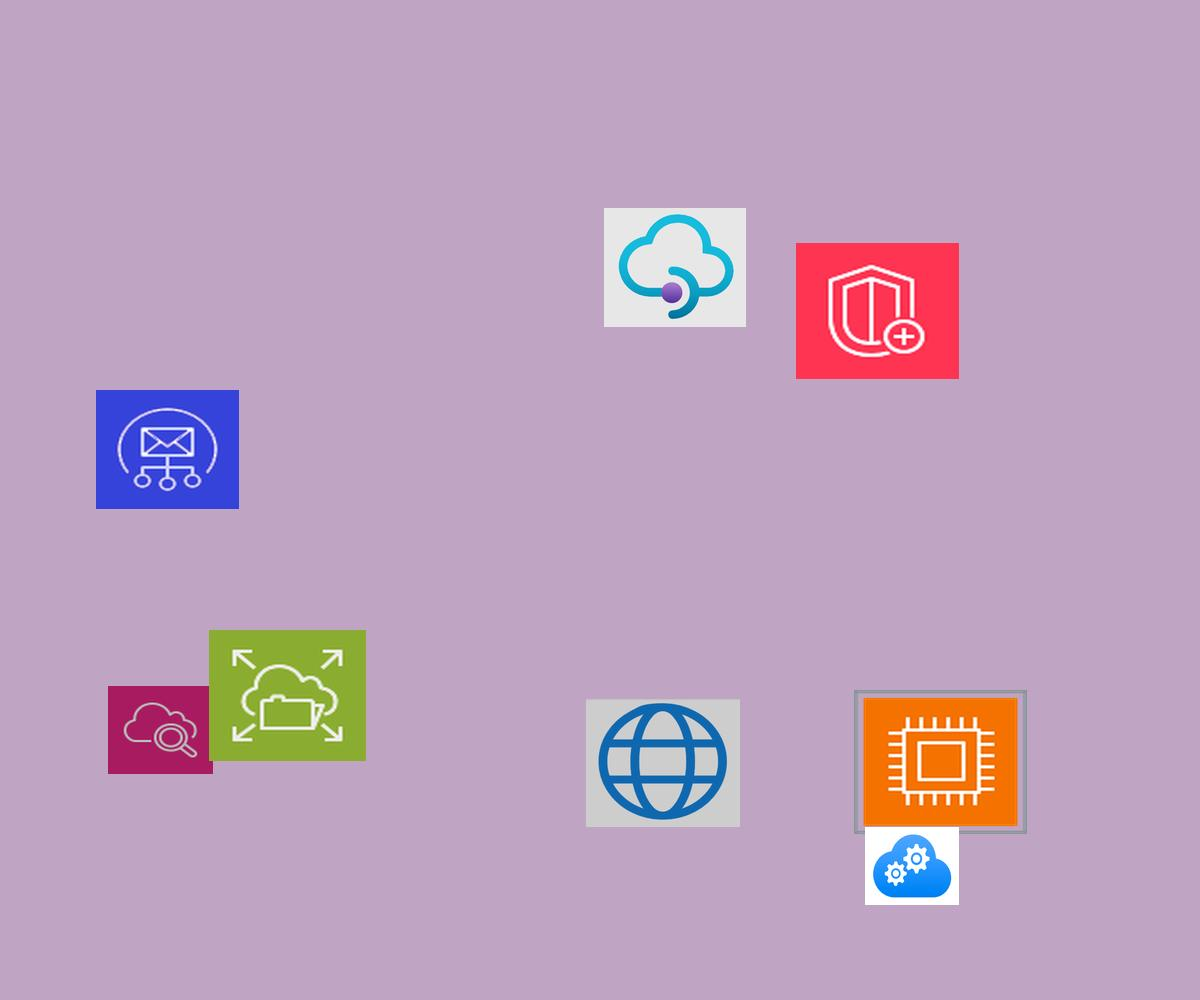AWS-Category_Compute: (854, 690, 1027, 834)
AWS-CloudWatch: (108, 686, 213, 774)
AWS-EFS: (209, 630, 366, 761)
AWS-Shield: (796, 243, 959, 379)
AWS-Simple-Email-Service: (96, 390, 239, 509)
Azure_api_gateway: (604, 208, 746, 327)
Azure_cloud_services: (865, 827, 959, 905)
Azure_http: (586, 699, 740, 827)
